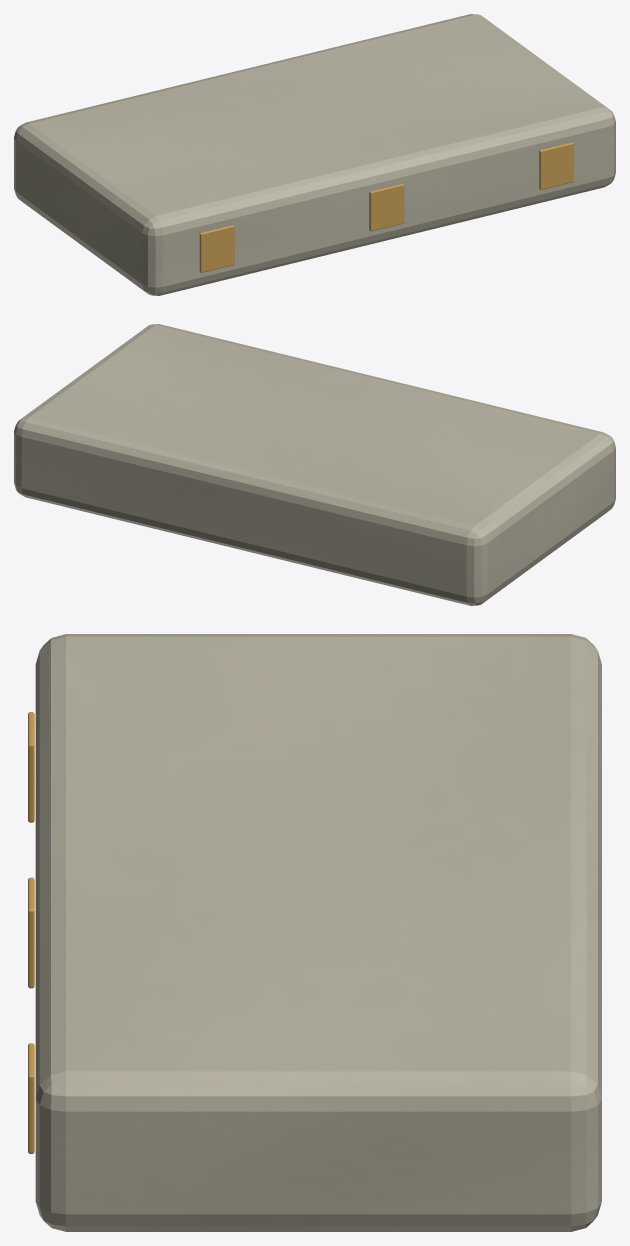
File: Test_Obstacle.glb
3 renders of one model, top to bottom at view 1: azimuth 30°, elevation 25°; view 2: azimuth 150°, elevation 25°; view 3: azimuth 270°, elevation 25°, orthographic. The views are drawn at different scales.
Parts seen in each view (by area): view 1: Test_Obstacle; view 2: Test_Obstacle; view 3: Test_Obstacle.
Boxes of the visible parts, x1,y1,x2,y2 form: Test_Obstacle: [14, 14, 615, 295]; Test_Obstacle: [14, 324, 615, 605]; Test_Obstacle: [28, 634, 601, 1231].
Size of the model in its own units: 2.5 by 0.4 by 1.32.
2 materials, 1 textured.
